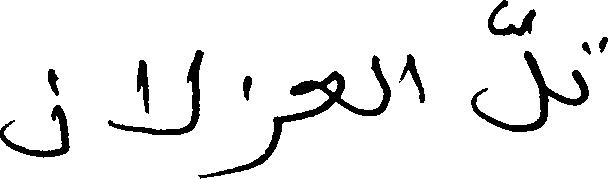X: (109, 45, 203, 178), (471, 0, 546, 136), (0, 64, 68, 162), (226, 71, 281, 178), (290, 66, 343, 126), (573, 32, 607, 110), (371, 50, 390, 120), (406, 49, 425, 107)
